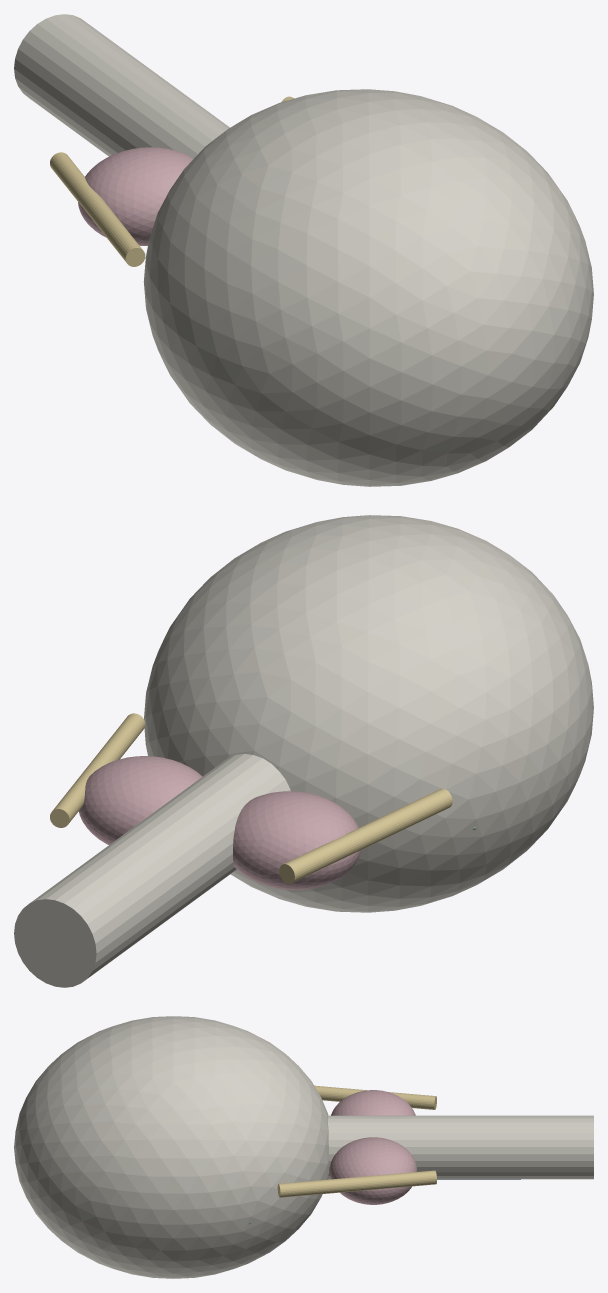
The model's file is head-neck-g3-high.glb.
3 renders of one model, top to bottom at view 1: azimuth 30°, elevation 25°; view 2: azimuth 150°, elevation 25°; view 3: azimuth 270°, elevation 25°, orthographic. The views are drawn at different scales.
Parts seen in each view (by area): view 1: skull, cervical_spine_proxy, thyroid_left, left_neck_nerve_proxy; view 2: skull, cervical_spine_proxy, thyroid_left, thyroid_right, left_neck_nerve_proxy, right_neck_nerve_proxy; view 3: skull, cervical_spine_proxy, thyroid_right, right_neck_nerve_proxy, thyroid_left, left_neck_nerve_proxy.
Part boxes in pixels (box(x1,y1,x2,y2)): skull: box(143, 89, 593, 486); cervical_spine_proxy: box(14, 14, 229, 159); thyroid_left: box(78, 147, 192, 245); left_neck_nerve_proxy: box(50, 152, 145, 266); skull: box(144, 515, 593, 912); cervical_spine_proxy: box(14, 754, 290, 987); thyroid_left: box(233, 791, 361, 889); thyroid_right: box(79, 756, 202, 844); left_neck_nerve_proxy: box(279, 788, 452, 883); right_neck_nerve_proxy: box(50, 713, 145, 827); skull: box(14, 1016, 329, 1278); cervical_spine_proxy: box(328, 1115, 593, 1179); thyroid_right: box(329, 1137, 417, 1204); right_neck_nerve_proxy: box(277, 1170, 436, 1197); thyroid_left: box(331, 1090, 415, 1115); left_neck_nerve_proxy: box(314, 1085, 436, 1109).
Size of the model in its own units: 1.48 by 1.28 by 2.9.
